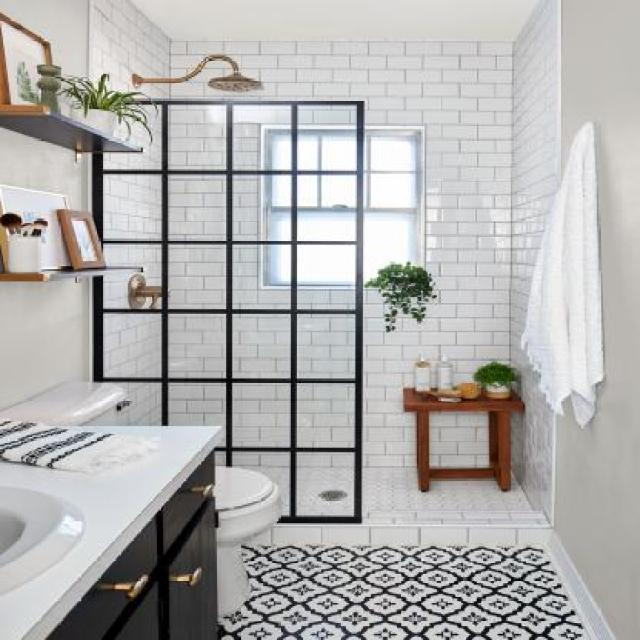floor: (220, 525, 617, 640)
